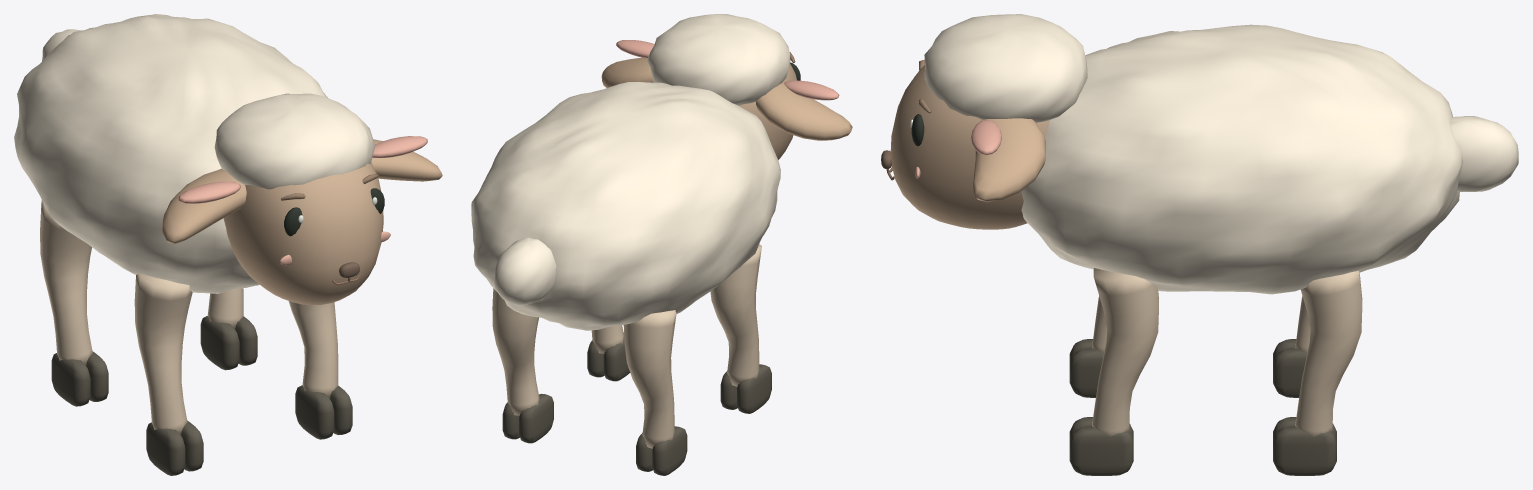
Rendered from sheep.glb.
3 views of the same model, side by side, from view 1: azimuth 30°, elevation 25°; view 2: azimuth 150°, elevation 25°; view 3: azimuth 270°, elevation 25° (orthographic). The views are drawn at different scales.
Parts seen in each view (by area): view 1: continuous-sculpted-fleece, face-and-jaw, sculpted-forelock, shaped-leg-2, shaped-leg-0, shaped-leg-3, soft-drooping-ear--1, split-hoof-1-toe--1, split-hoof-3-toe--1, split-hoof-0-toe--1, split-hoof-2-toe--1, soft-drooping-ear-1 (+7 smaller); view 2: continuous-sculpted-fleece, sculpted-forelock, shaped-leg-0, shaped-leg-2, shaped-leg-1, wool-tail, soft-drooping-ear--1, split-hoof-1-toe--1, split-hoof-0-toe--1, split-hoof-2-toe--1, soft-drooping-ear-1, face-and-jaw (+8 smaller); view 3: continuous-sculpted-fleece, sculpted-forelock, face-and-jaw, shaped-leg-3, shaped-leg-1, soft-drooping-ear-1, wool-tail, split-hoof-3-toe-1, split-hoof-1-toe-1, split-hoof-2-toe-1, split-hoof-0-toe-1, ear-lining-1.
Part boxes in pixels (left/top/right/bottom): continuous-sculpted-fleece: left=14, top=14, right=327, bottom=293; face-and-jaw: left=223, top=162, right=383, bottom=305; sculpted-forelock: left=214, top=93, right=375, bottom=189; shaped-leg-2: left=134, top=273, right=192, bottom=435; shaped-leg-0: left=40, top=200, right=92, bottom=365; shaped-leg-3: left=288, top=301, right=338, bottom=398; soft-drooping-ear--1: left=162, top=168, right=246, bottom=243; split-hoof-1-toe--1: left=200, top=316, right=239, bottom=370; split-hoof-3-toe--1: left=295, top=385, right=334, bottom=439; split-hoof-0-toe--1: left=51, top=353, right=90, bottom=406; split-hoof-2-toe--1: left=146, top=422, right=185, bottom=475; soft-drooping-ear-1: left=371, top=139, right=442, bottom=181; continuous-sculpted-fleece: left=471, top=81, right=780, bottom=330; sculpted-forelock: left=647, top=14, right=790, bottom=105; shaped-leg-0: left=623, top=310, right=676, bottom=448; shaped-leg-2: left=710, top=244, right=761, bottom=386; shaped-leg-1: left=492, top=288, right=539, bottom=415; wool-tail: left=494, top=237, right=556, bottom=305; soft-drooping-ear--1: left=756, top=81, right=852, bottom=140; split-hoof-1-toe--1: left=519, top=393, right=553, bottom=443; split-hoof-0-toe--1: left=652, top=426, right=687, bottom=475; split-hoof-2-toe--1: left=737, top=364, right=771, bottom=413; soft-drooping-ear-1: left=601, top=57, right=653, bottom=87; face-and-jaw: left=738, top=64, right=797, bottom=159; continuous-sculpted-fleece: left=1021, top=24, right=1463, bottom=294; sculpted-forelock: left=924, top=14, right=1087, bottom=122; face-and-jaw: left=890, top=65, right=1049, bottom=229; shaped-leg-3: left=1092, top=268, right=1158, bottom=436; shaped-leg-1: left=1295, top=271, right=1362, bottom=436; soft-drooping-ear-1: left=972, top=118, right=1045, bottom=202; wool-tail: left=1451, top=116, right=1518, bottom=192; split-hoof-3-toe-1: left=1069, top=426, right=1133, bottom=475; split-hoof-1-toe-1: left=1273, top=426, right=1336, bottom=475; split-hoof-2-toe-1: left=1069, top=348, right=1103, bottom=397; split-hoof-0-toe-1: left=1273, top=348, right=1307, bottom=397; ear-lining-1: left=971, top=120, right=1001, bottom=155.
Bounding box in the file's own units: 0.9888 × 1.29 × 1.85.
